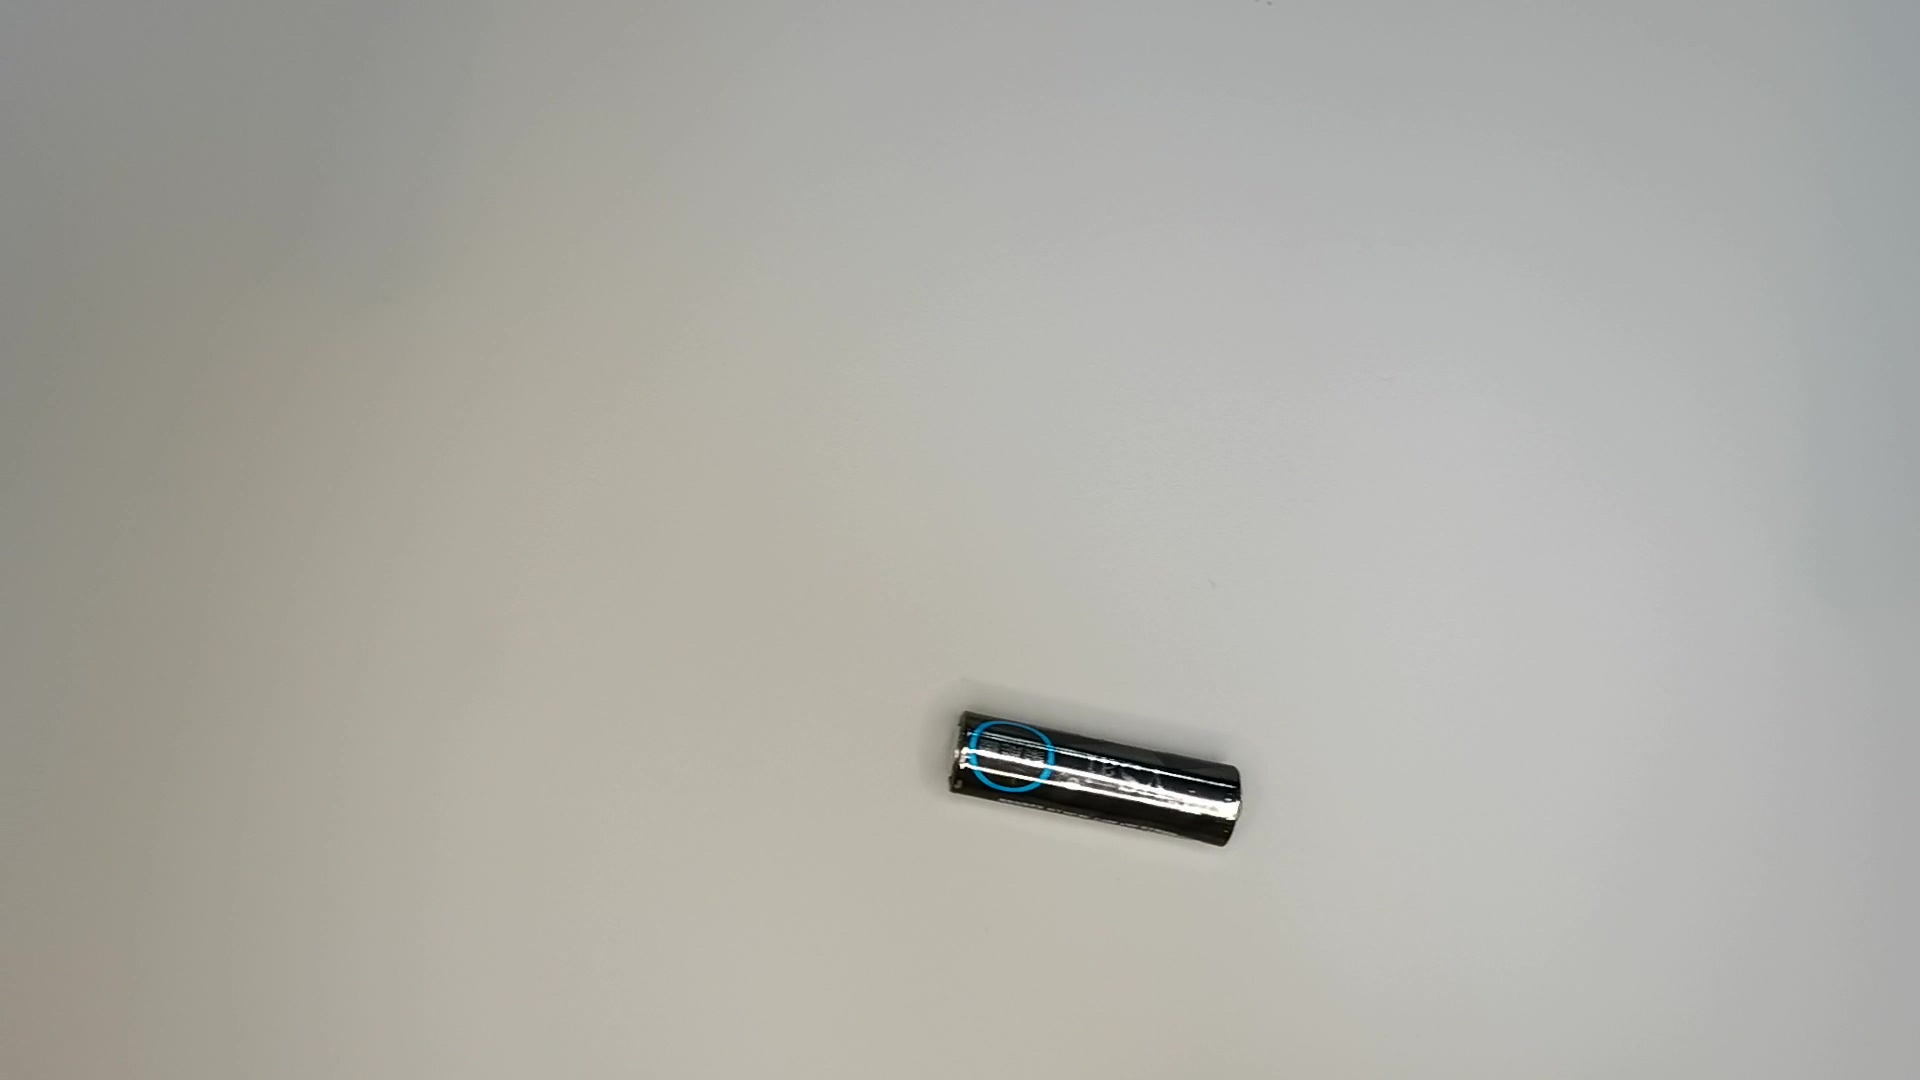battery: (945, 709, 1245, 860)
